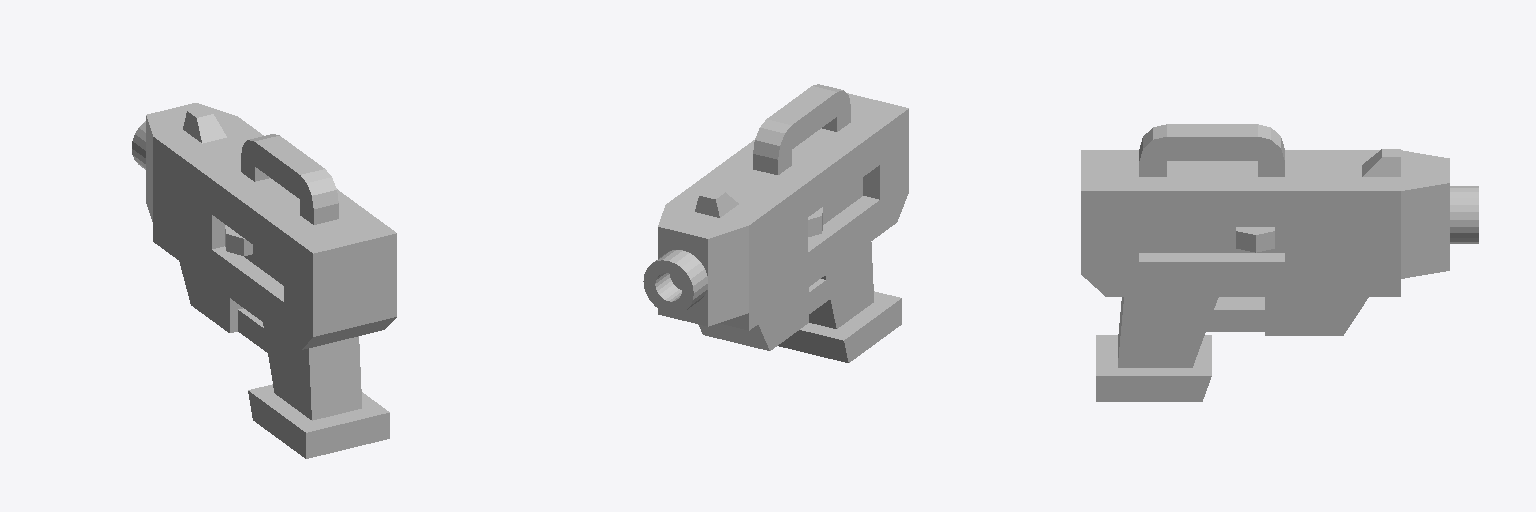
Rendered from blasterB.obj.
The picture shows the model from 3 angles: view 1: azimuth 30°, elevation 25°; view 2: azimuth 150°, elevation 25°; view 3: azimuth 270°, elevation 25°; orthographic projection.
Visible parts, largest first — view 1: blasterB; view 2: blasterB; view 3: blasterB.
Part boxes in pixels (x1,y1,x2,y2): blasterB: (132, 103, 396, 458); blasterB: (643, 84, 908, 362); blasterB: (1081, 124, 1478, 401).
Bounding box in the file's own units: 0.1 × 0.2859 × 0.41.